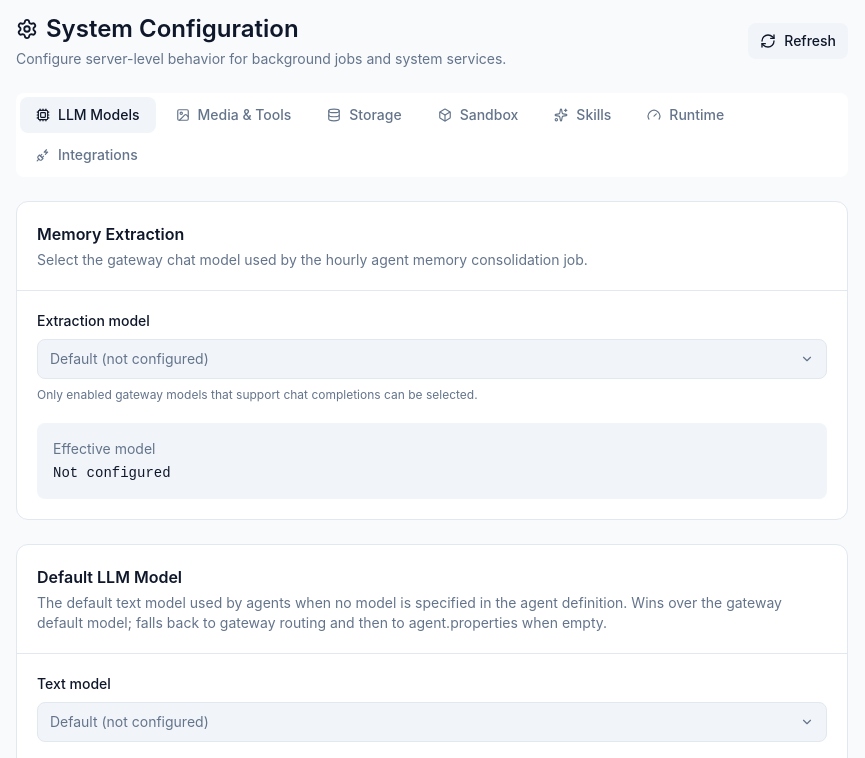
Test: SystemSettings trace archive interval › blocks saving an out-of-range interval
Click the button "Storage" at (364, 115), box [311,97,418,133]
(page scrolled)
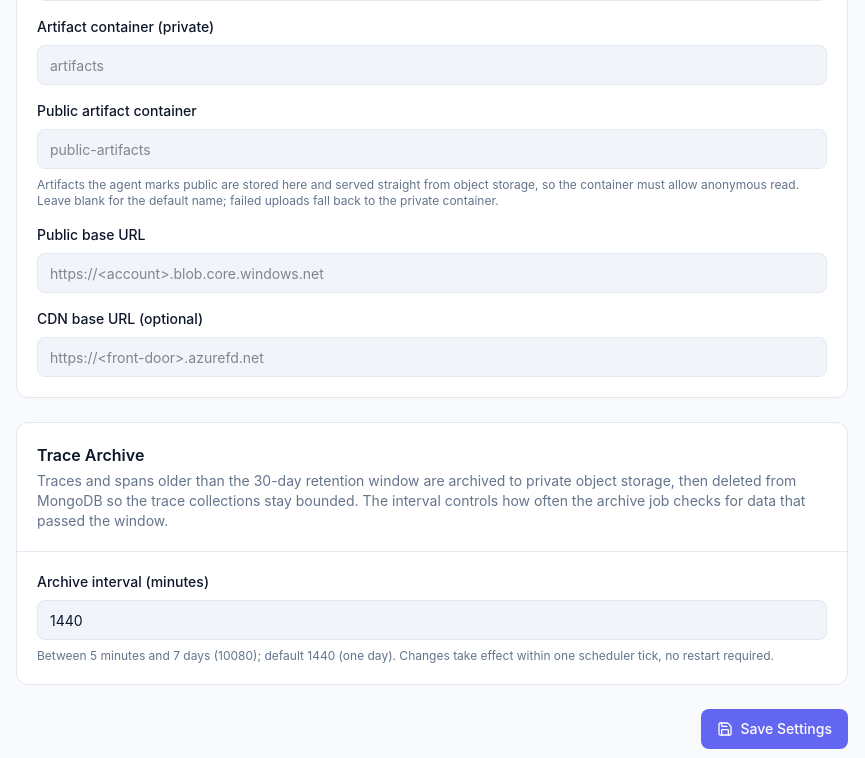
Replace the text in the number field labelled "Archive interval" with "3" at (432, 620), box [37,600,827,640]
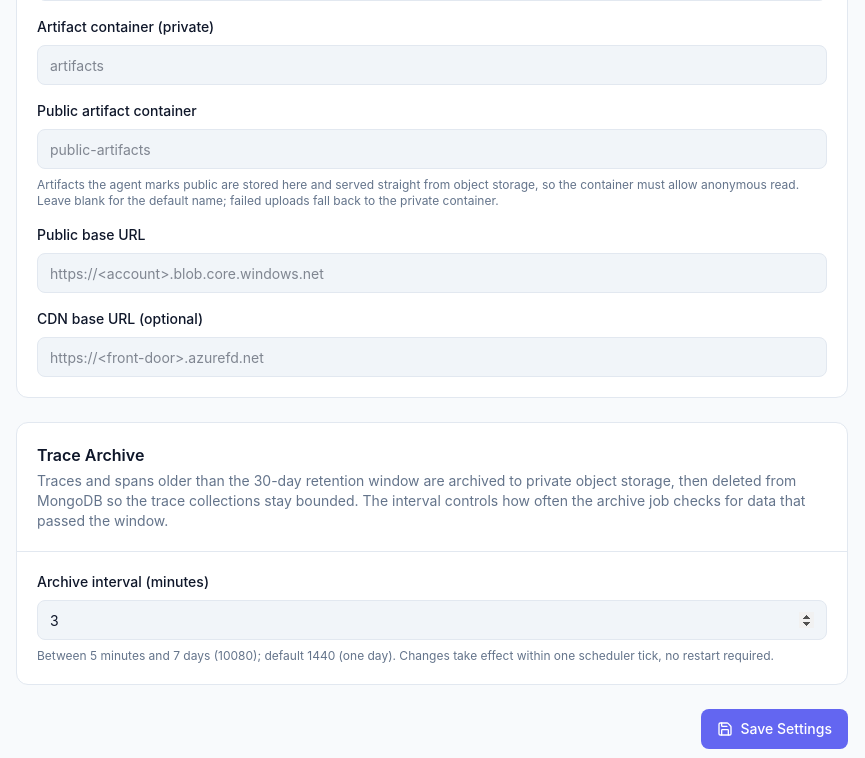
Click the button "Save Settings" at (774, 729), box [701,709,848,749]
(page scrolled)
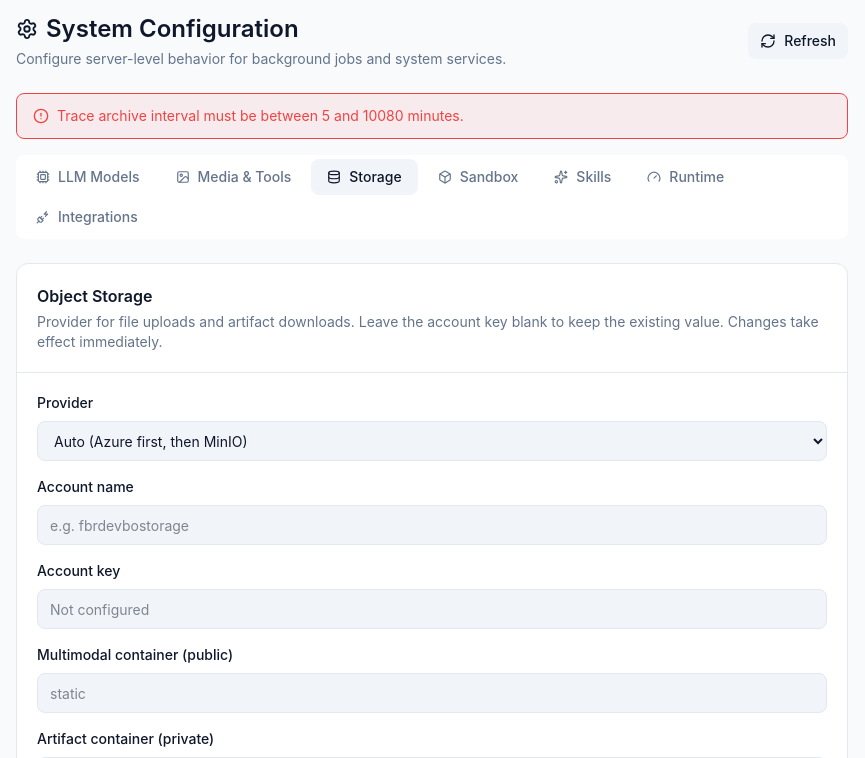
Expected: the text "Trace archive interval must be between 5 and 10080 minutes." is shown, [16,93,848,139]
